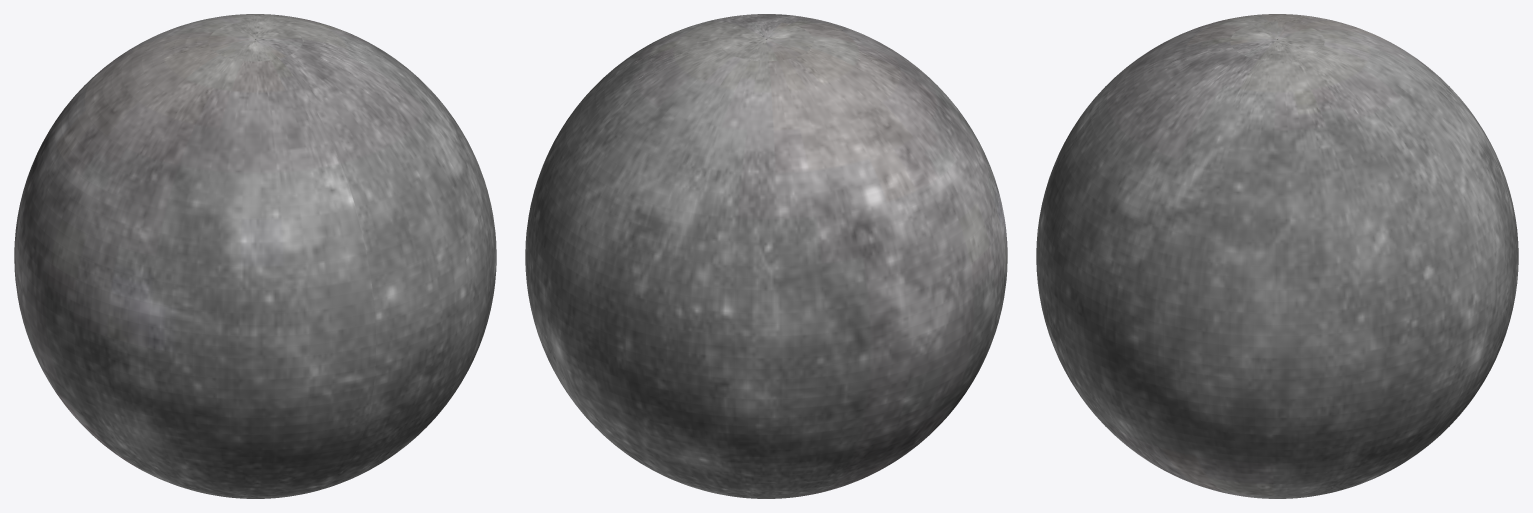
Rendered from planets-mercury.glb.
3 renders of one model, left to right at view 1: azimuth 30°, elevation 25°; view 2: azimuth 150°, elevation 25°; view 3: azimuth 270°, elevation 25°, orthographic.
Parts seen in each view (by area): view 1: Mercury; view 2: Mercury; view 3: Mercury.
Boxes of the visible parts, left/top/right/bottom form: Mercury: left=14, top=14, right=496, bottom=498; Mercury: left=525, top=14, right=1007, bottom=498; Mercury: left=1036, top=14, right=1518, bottom=498.
Bounding box in the file's own units: 1.97 × 1.96 × 1.97.
1 material, 1 textured.
